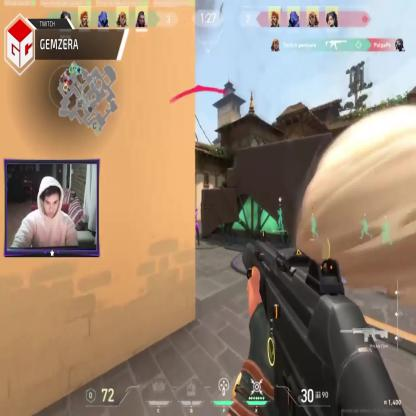enemy: (189, 204, 200, 247)
enemy_head: (191, 205, 195, 211)
